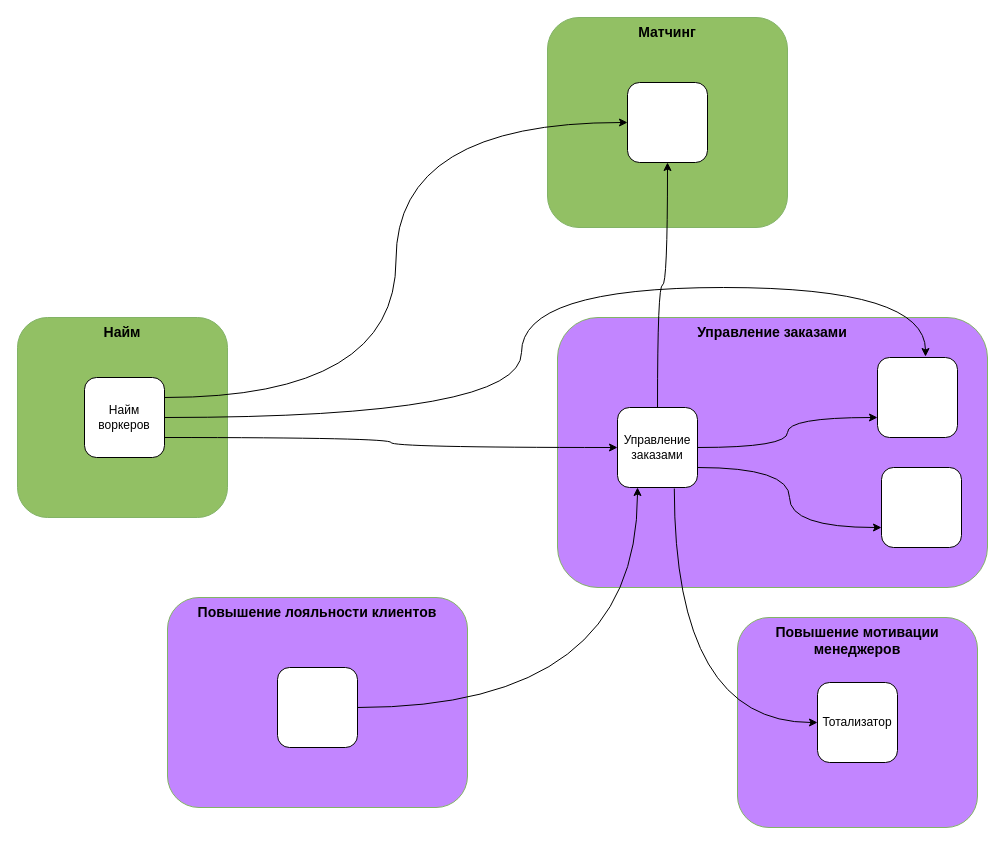
Some shapes in this 1005 by 845 pixel diagram are drawn without their labels. Each missing label, with the centre of its shape:
Выплаты воркерам: point (917, 397)
Контроль качества: point (317, 707)
Матчинг воркеров: point (667, 122)
Оплата заказов: point (921, 507)
